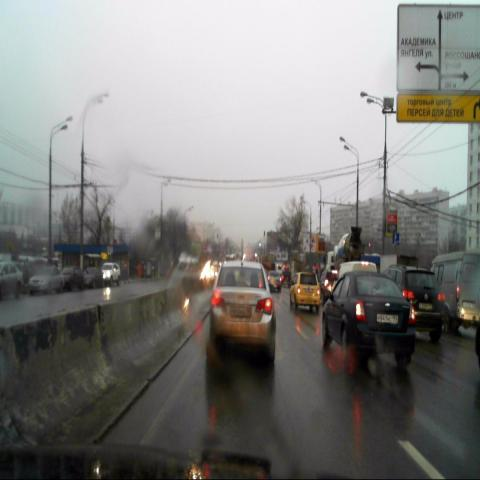6_6: (392, 232, 399, 244)
